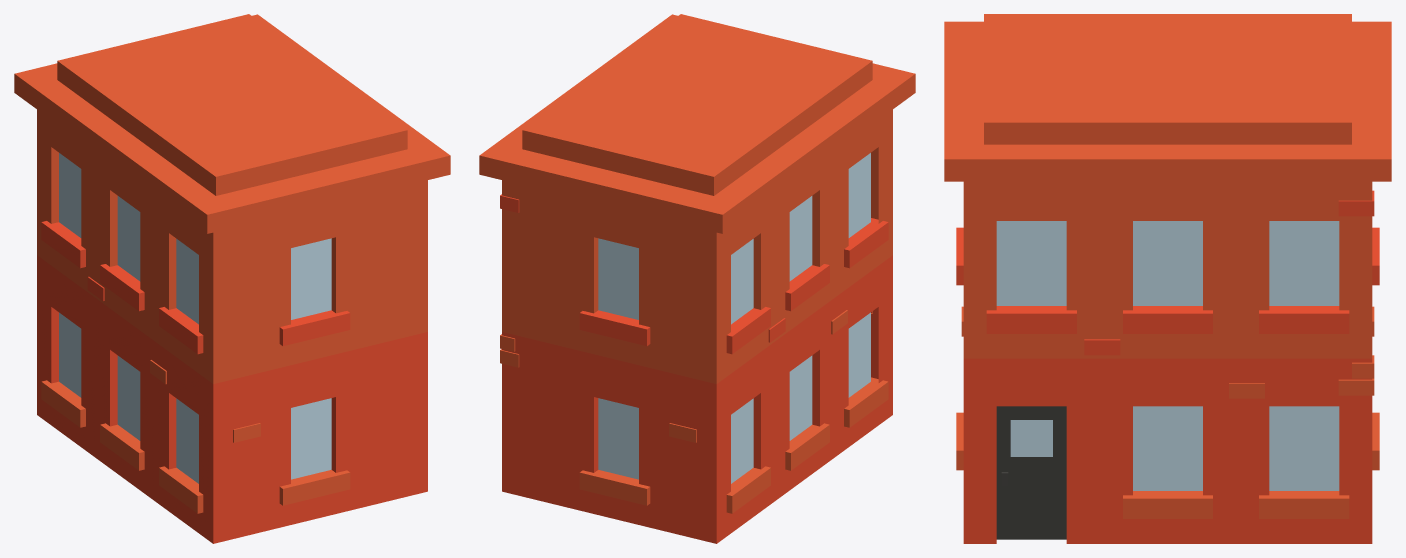
Rendered from Building_4.fbx.
The picture shows the model from 3 angles, left to right: view 1: azimuth 30°, elevation 25°; view 2: azimuth 150°, elevation 25°; view 3: azimuth 270°, elevation 25°; orthographic projection. The views are drawn at different scales.
Visible parts, largest first — view 1: Building_4; view 2: Building_4; view 3: Building_4.
Boxes of the visible parts, x1,y1,x2,y2 form: Building_4: (14,14,450,543); Building_4: (479,14,915,543); Building_4: (944,14,1391,543).
Bounding box in the file's own units: 12.75 × 17.92 × 17.5.
Materials: 1 (1 with a texture image).
